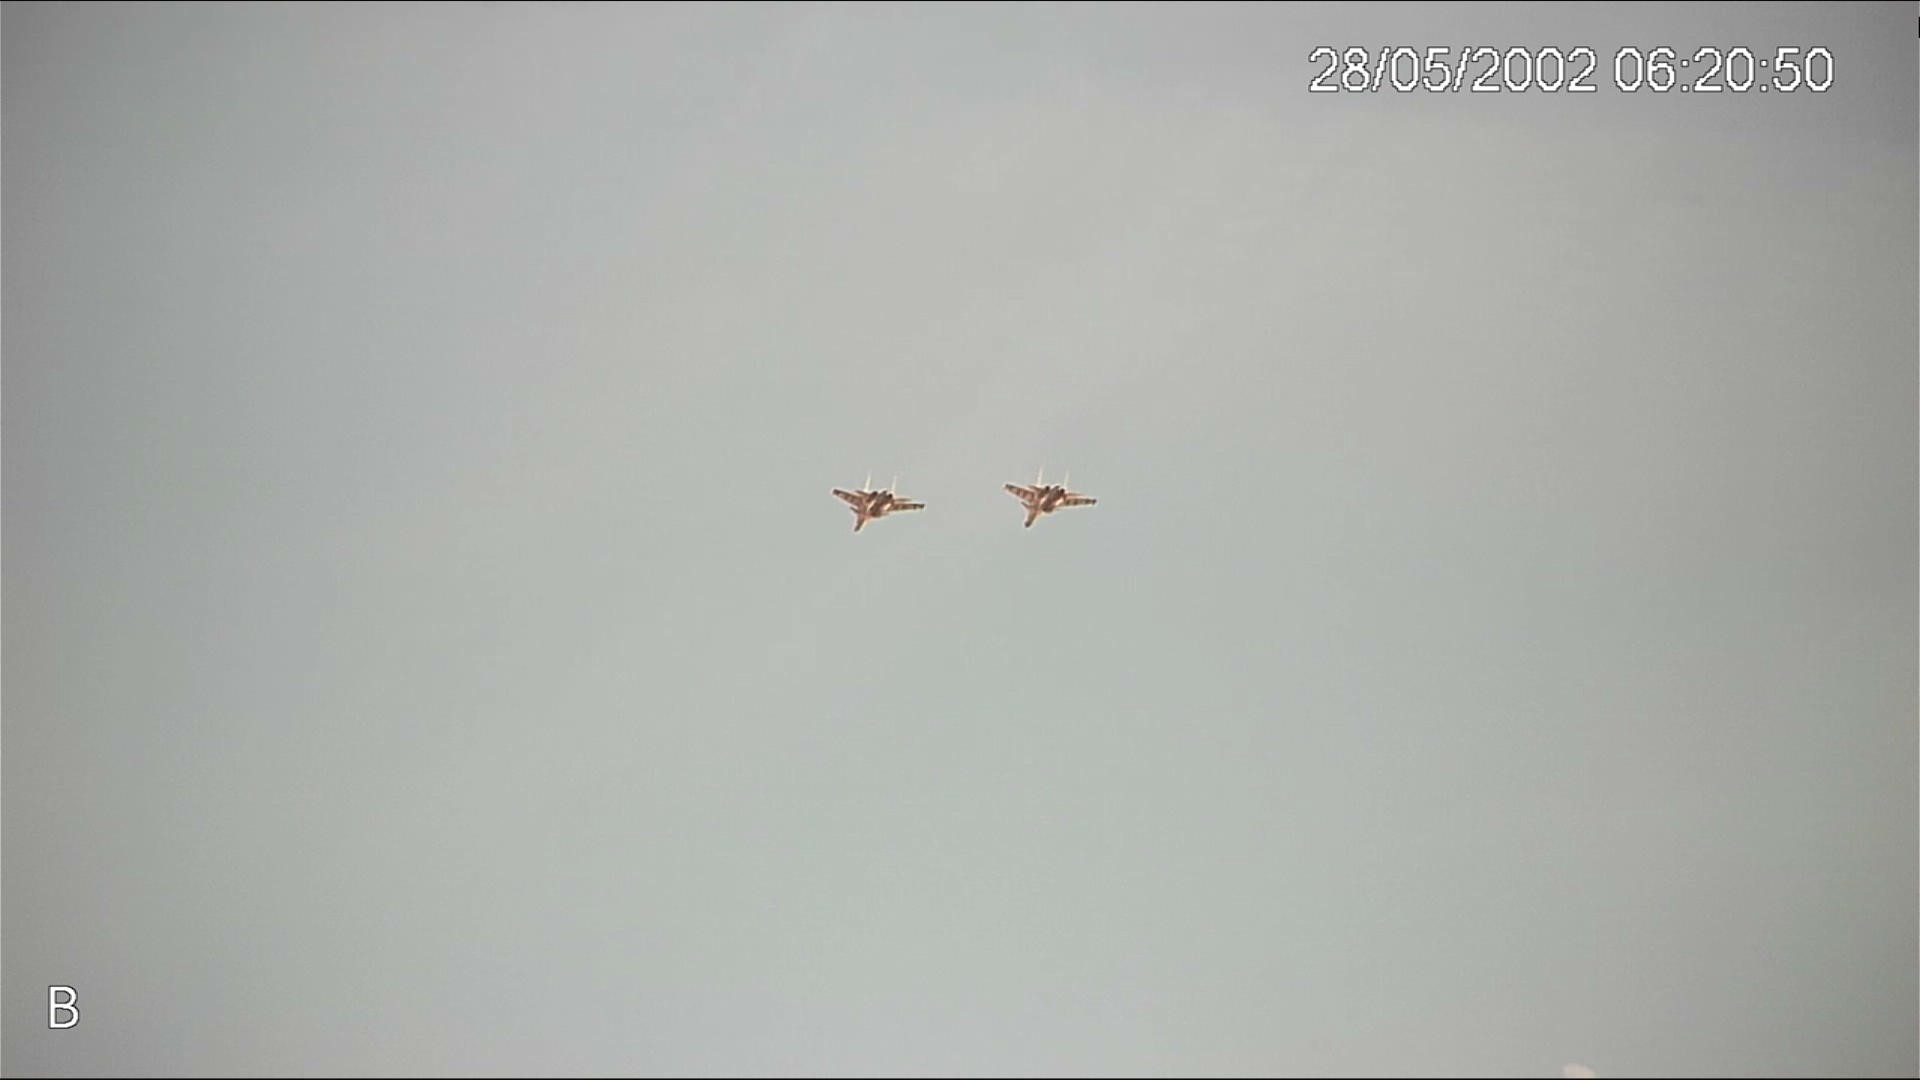SU_30: (827, 473, 924, 543), (1002, 464, 1102, 529)
